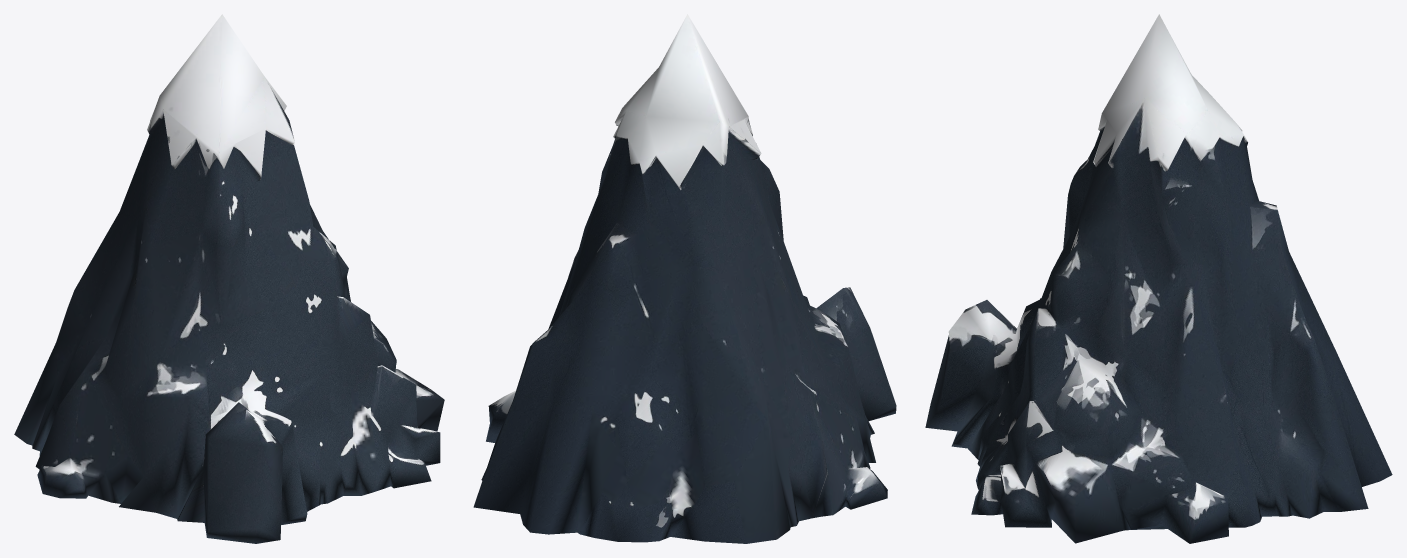
File: mountains-crag.glb
3 views of the same model, side by side, from view 1: azimuth 30°, elevation 25°; view 2: azimuth 150°, elevation 25°; view 3: azimuth 270°, elevation 25° (orthographic). The views are drawn at different scales.
Size of the model in its own units: 0.8408 by 0.9502 by 0.9102.
Materials: 1 (1 with a texture image).
